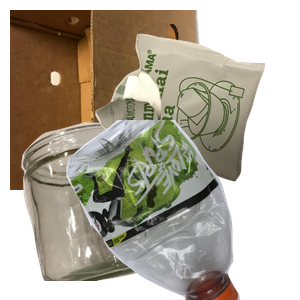cardboard: (10, 10, 211, 190)
glass: (19, 120, 184, 300)
plastic: (64, 120, 300, 300)
trash: (93, 31, 300, 205)
